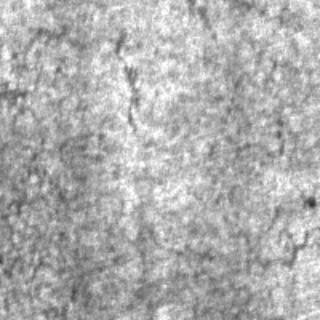crazing: (0, 19, 140, 131), (226, 204, 318, 276)
